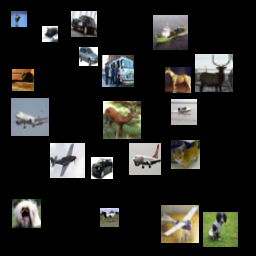automobile: (79, 3, 117, 41), (57, 181, 89, 213)
bird: (12, 7, 47, 42), (44, 56, 79, 91), (116, 68, 138, 90)
cat: (35, 102, 67, 134), (34, 135, 66, 167)
deer: (139, 9, 177, 47), (98, 177, 127, 206), (161, 51, 187, 77)
dog: (166, 106, 198, 138)
frog: (199, 200, 237, 238), (215, 92, 247, 124), (158, 170, 187, 199), (33, 214, 52, 233)
ship: (203, 133, 238, 168), (4, 55, 33, 84), (87, 98, 113, 124)
